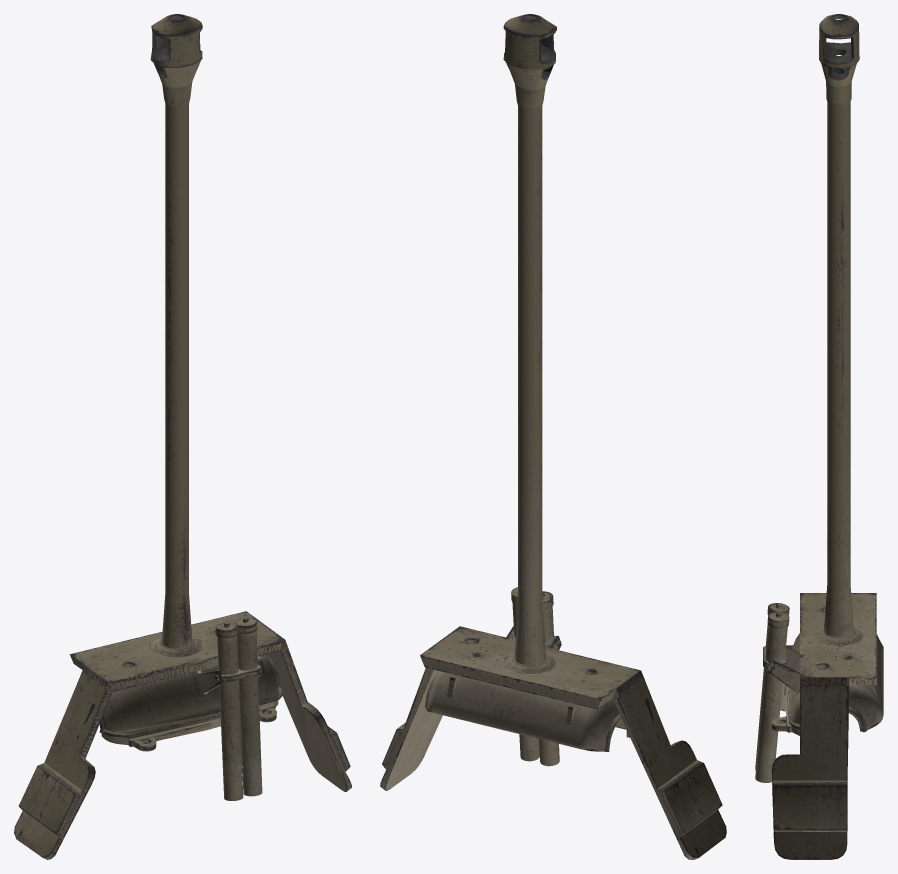
File: Gun_01.glb
The picture shows the model from 3 angles, left to right: view 1: azimuth 30°, elevation 25°; view 2: azimuth 150°, elevation 25°; view 3: azimuth 270°, elevation 25°; orthographic projection. The views are drawn at different scales.
Visible parts, largest first — view 1: set_0_group_0; view 2: set_0_group_0; view 3: set_0_group_0.
Boxes of the visible parts, box(x1,y1,x2,y2) form: set_0_group_0: box(14, 14, 351, 859); set_0_group_0: box(380, 14, 726, 859); set_0_group_0: box(755, 14, 883, 859).
Bounding box in the file's own units: 2.65 × 6.49 × 0.9755.
1 material, 1 textured.
